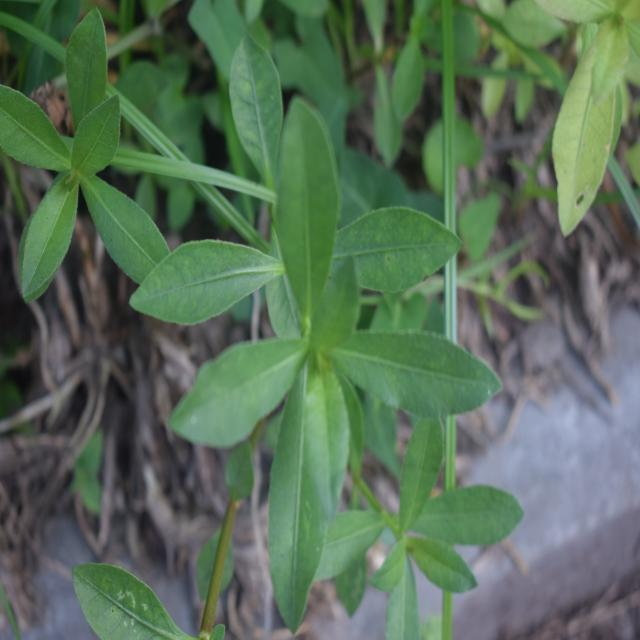Alligatorweed: (163, 123, 486, 603), (0, 3, 187, 320)
